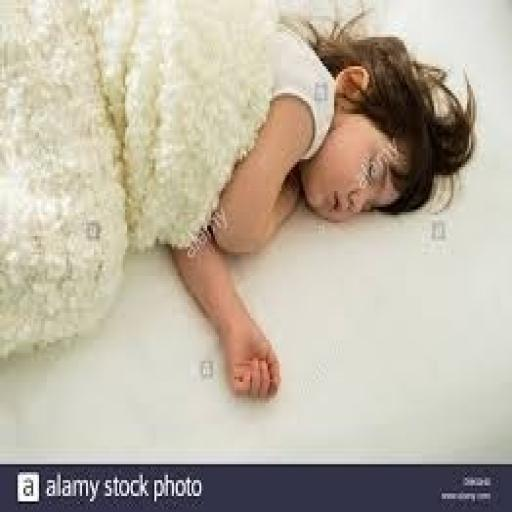sleeping: (0, 0, 479, 403)
